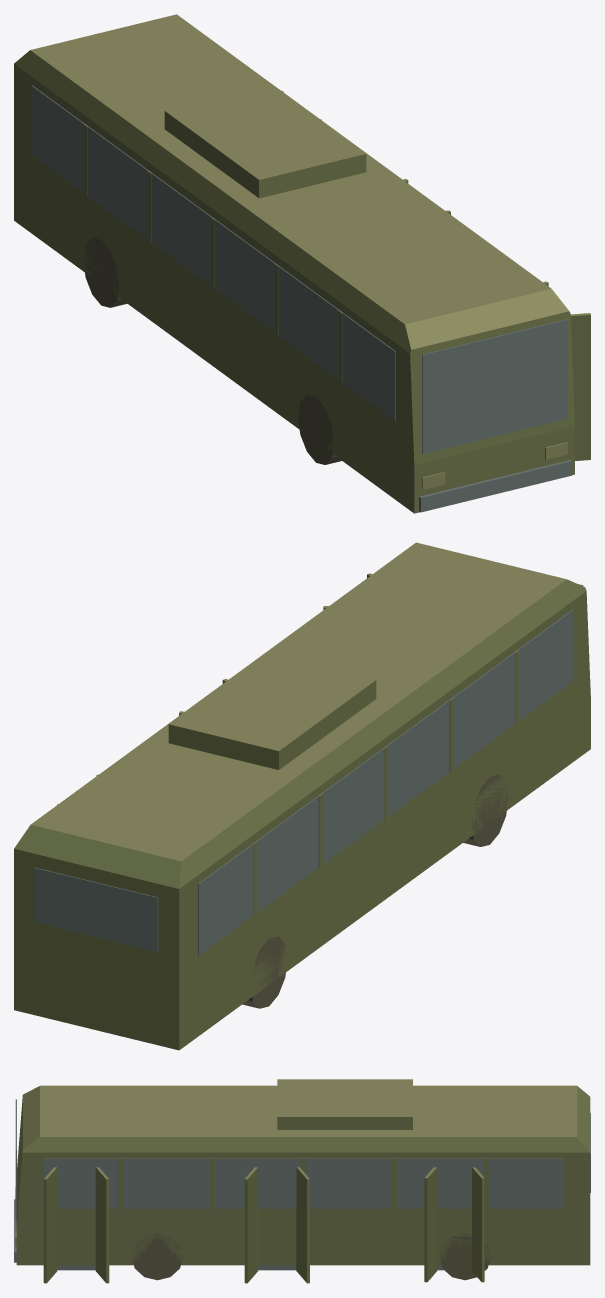
File: SM_Autobus_v1_PuertasAbiertas_LOD0.fbx
The picture shows the model from 3 angles, top to bottom: view 1: azimuth 30°, elevation 25°; view 2: azimuth 150°, elevation 25°; view 3: azimuth 270°, elevation 25°; orthographic projection. The views are drawn at different scales.
Visible parts, largest first — view 1: SM_autobus_v1_LOD0; view 2: SM_autobus_v1_LOD0; view 3: SM_autobus_v1_LOD0.
Boxes of the visible parts, x1=… form: SM_autobus_v1_LOD0: x1=14, y1=14, x2=590, y2=513; SM_autobus_v1_LOD0: x1=14, y1=542, x2=590, y2=1050; SM_autobus_v1_LOD0: x1=14, y1=1079, x2=590, y2=1283.
Bounding box in the file's own units: 3.15 × 3.26 × 11.07.
